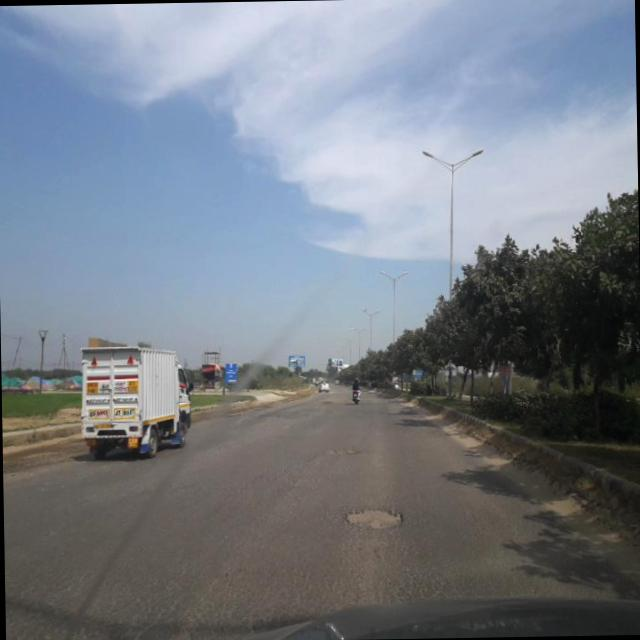crack: (25, 478, 467, 640)
pothole: (342, 496, 418, 534), (318, 442, 367, 461)
